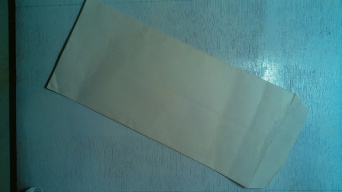l: (39, 1, 311, 189)
